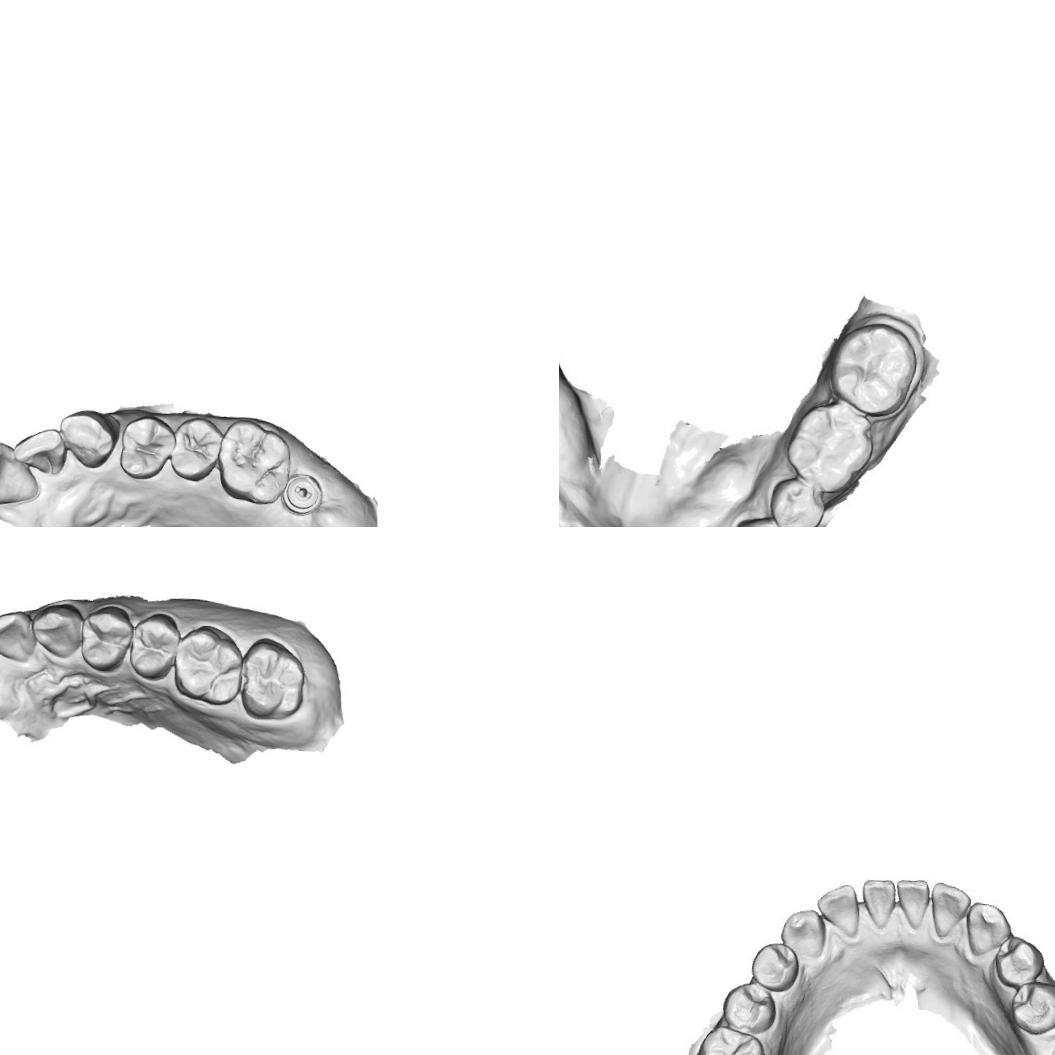canine: (55, 406, 122, 470), (27, 598, 84, 660), (961, 899, 1012, 958), (778, 908, 832, 960)
implant_minus: (279, 470, 326, 516)
incisor: (0, 438, 41, 508), (11, 424, 64, 478), (814, 882, 864, 934), (856, 871, 898, 929), (0, 605, 38, 669), (928, 882, 972, 936), (894, 874, 935, 927)
molar: (826, 318, 920, 421), (784, 396, 878, 494), (212, 416, 294, 508), (169, 620, 247, 708), (234, 633, 308, 722), (692, 1026, 762, 1055)
premolar: (114, 410, 177, 482), (165, 413, 225, 485), (126, 608, 184, 682), (76, 602, 134, 673), (767, 471, 825, 527), (990, 934, 1046, 991), (721, 979, 776, 1037), (746, 936, 799, 991), (1008, 981, 1055, 1037), (735, 511, 795, 527)
